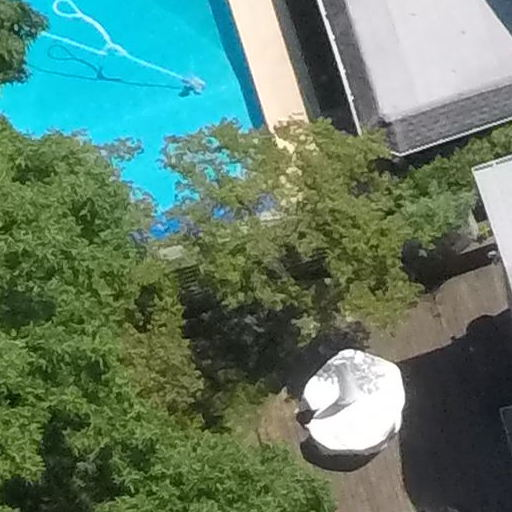pool: (4, 7, 281, 246)
